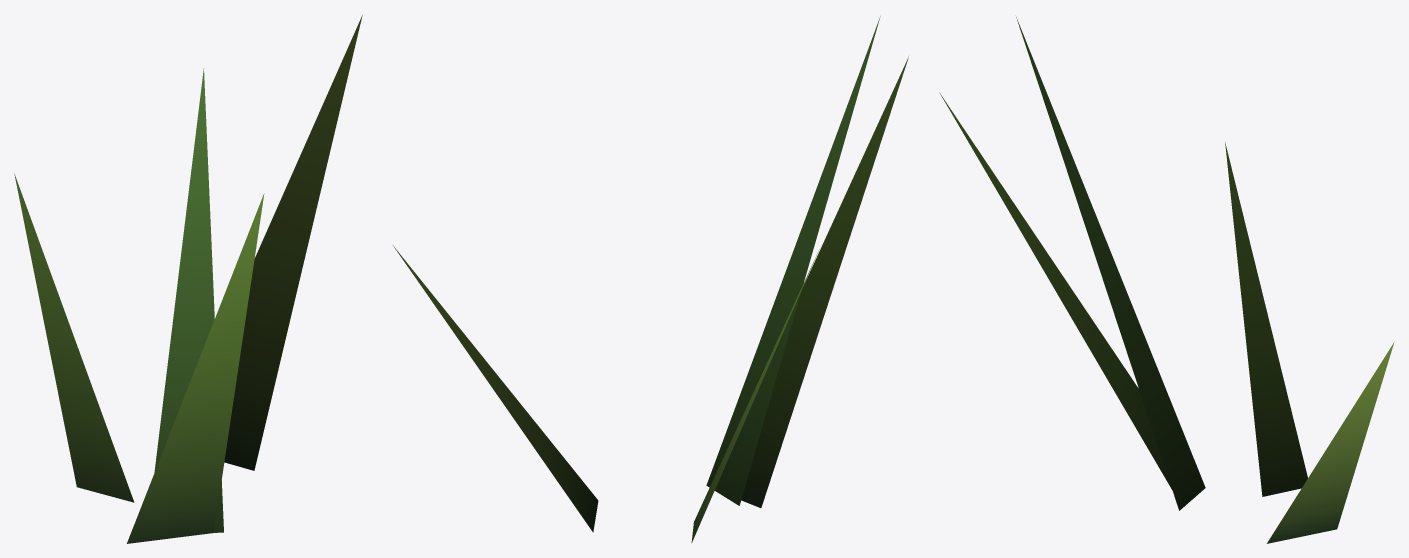
File: grass-broad-a.lod2.glb
The picture shows the model from 3 angles, left to right: view 1: azimuth 30°, elevation 25°; view 2: azimuth 150°, elevation 25°; view 3: azimuth 270°, elevation 25°; orthographic projection. The views are drawn at different scales.
Size of the model in its own units: 0.4623 by 0.5536 by 0.5096.
